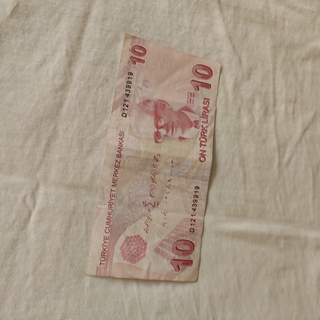10TLBack: (83, 33, 222, 283)
